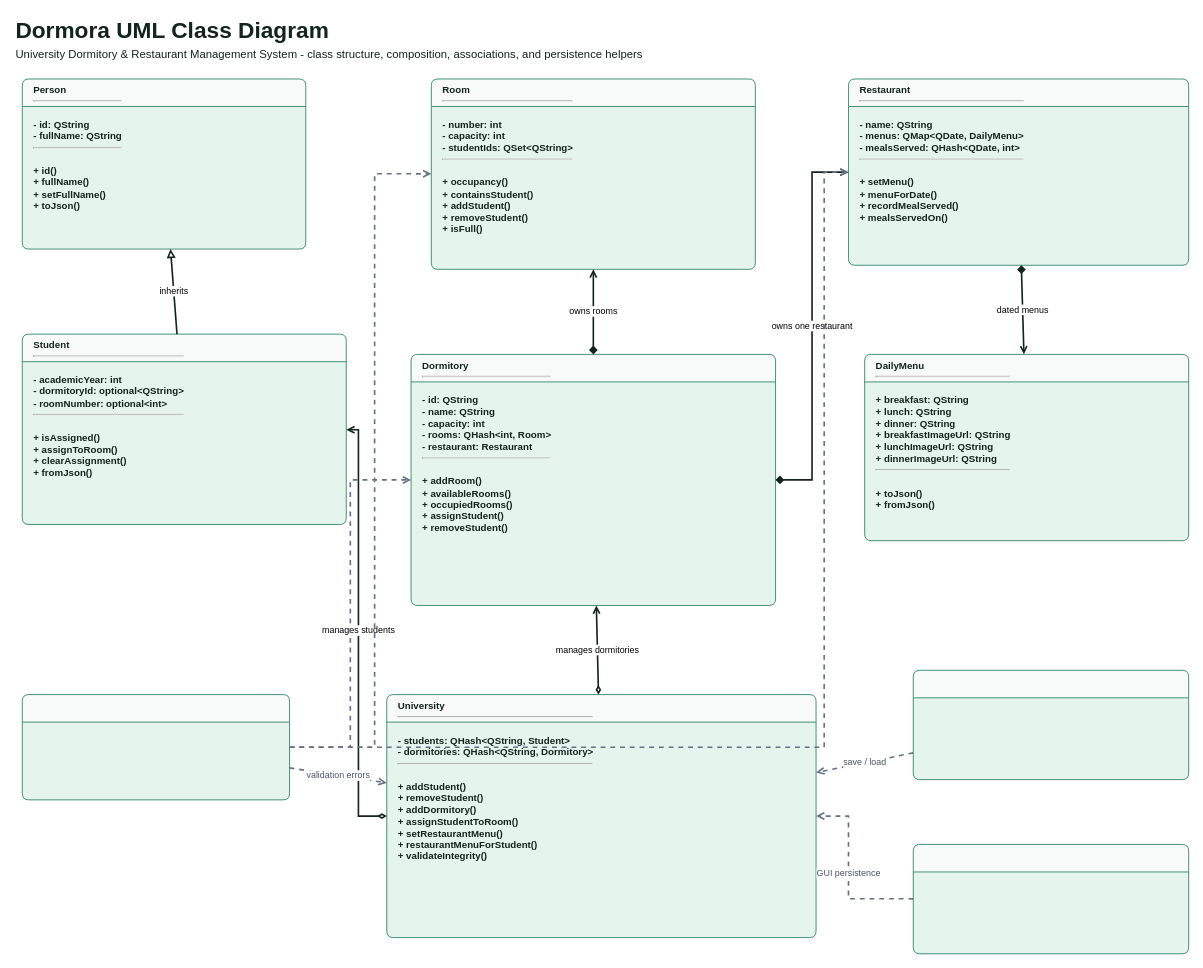
The diagram is 1203 pixels wide and 968 high, and some of its shapes have lost their labels. The shapes that lost their labels are listed below. From the top down, each one's box as (x1, y1, x2, y2) in pixels, then its label:
(912, 669, 1189, 780): JsonStorage + saveUniversity() + loadUniversity(): University
(21, 694, 290, 800): DomainError + user-facing domain rule violation + what()
(912, 844, 1189, 954): AppState + neighborhoodToJson() + adminProfileToJson() + defaultAppStatePath()
